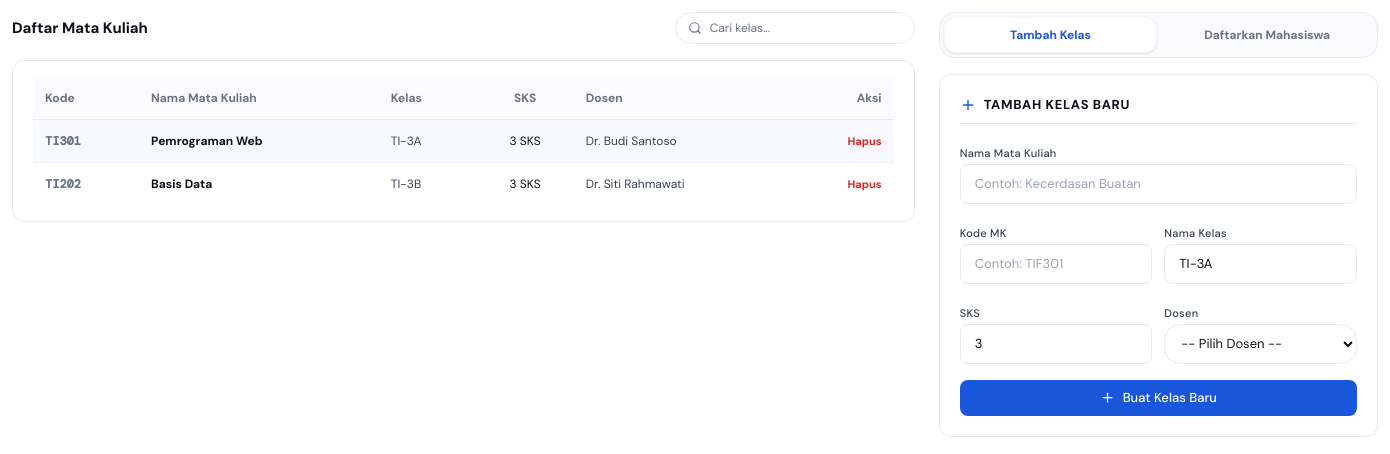
Test case: CoursesTab Component › switches to Daftarkan Mahasiswa tab and displays class members
This screenshot has width=1390, height=454.
Click the button "Daftarkan Mahasiswa".
click(1267, 35)  # box [1161, 18, 1373, 52]
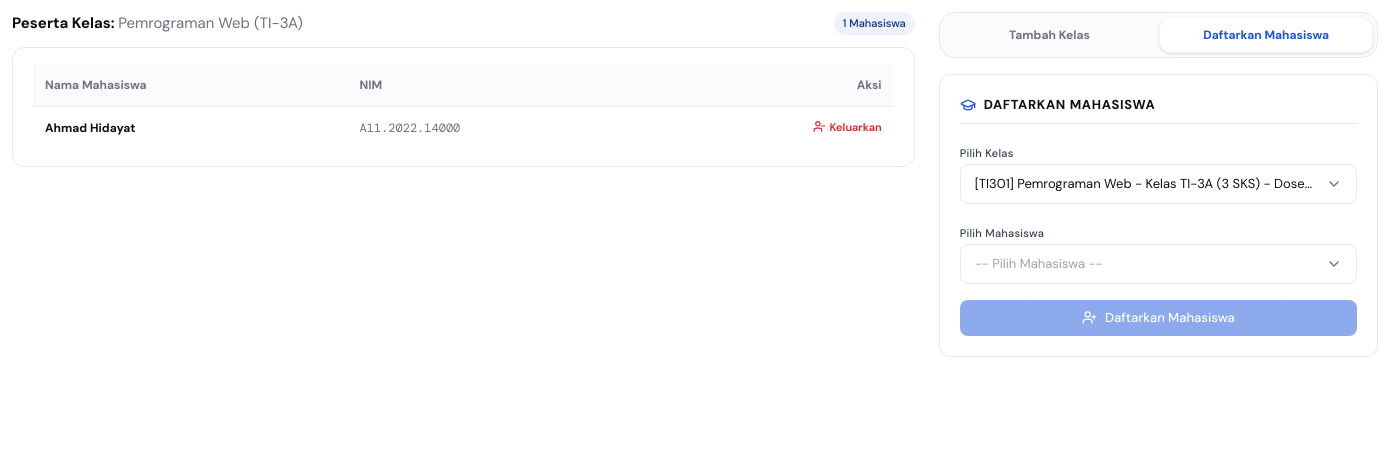
Expected: the heading "Peserta Kelas: Pemrograman Web (TI-3A)" is shown, [12, 12, 303, 34]
Expected: the text "Ahmad Hidayat" is shown, [33, 106, 348, 150]
Expected: the text "A11.2022.14000" is shown, [348, 106, 660, 150]
